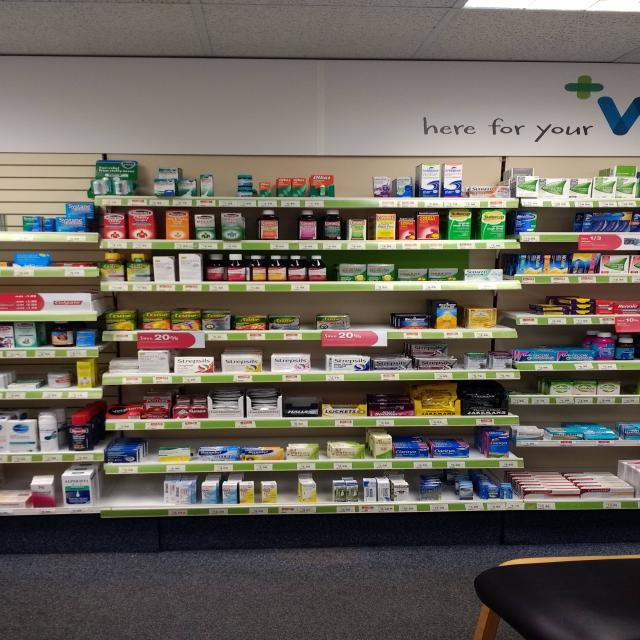unorganised: (197, 478, 279, 505), (454, 480, 514, 501), (59, 200, 93, 230), (44, 369, 73, 389), (205, 254, 226, 281), (249, 396, 280, 411), (211, 397, 241, 412), (107, 359, 140, 372)
